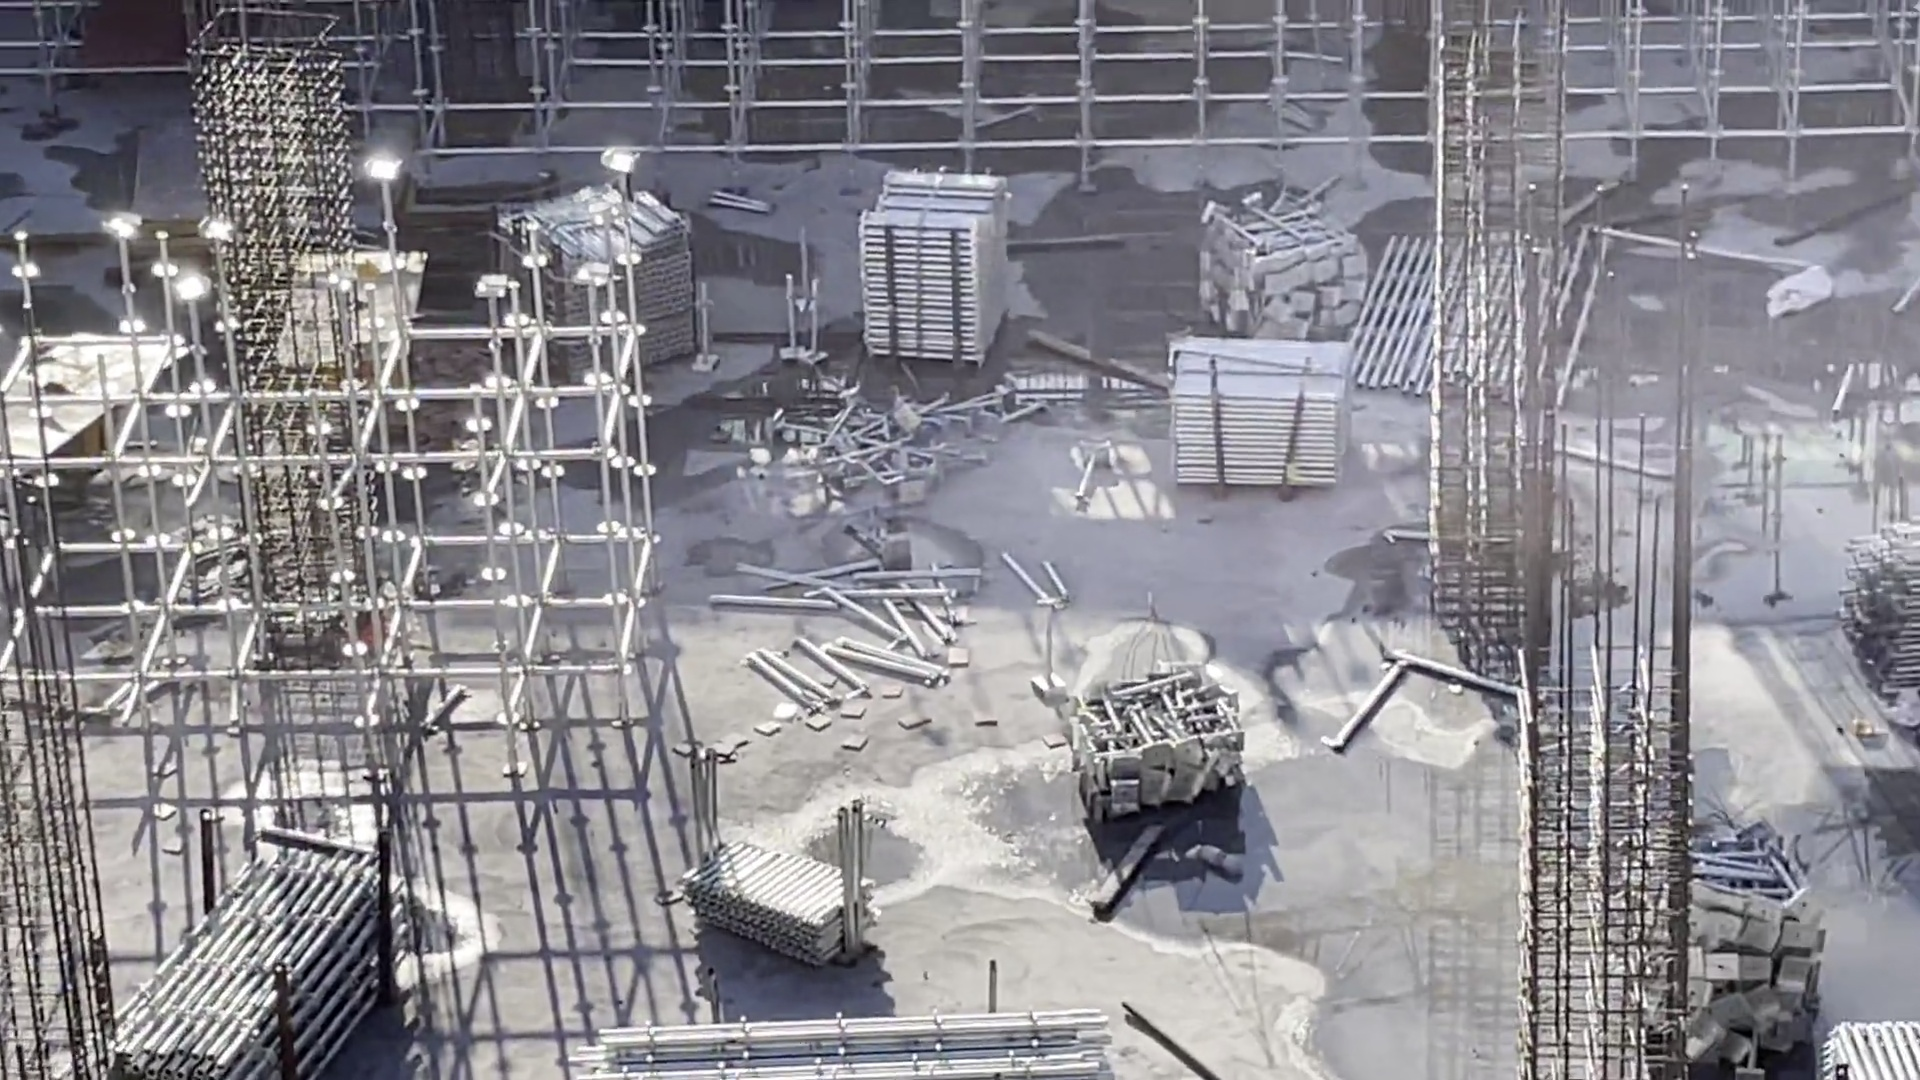cutter: (1, 311, 212, 517), (251, 237, 448, 429)
scaffold: (109, 849, 410, 1073), (487, 175, 694, 388), (1623, 822, 1811, 1055), (562, 1004, 1135, 1079), (1159, 334, 1371, 504), (857, 169, 1019, 369), (684, 818, 866, 978), (1196, 185, 1358, 342), (1071, 666, 1238, 818), (790, 392, 980, 495), (1813, 516, 1920, 674), (1826, 992, 1920, 1080)
